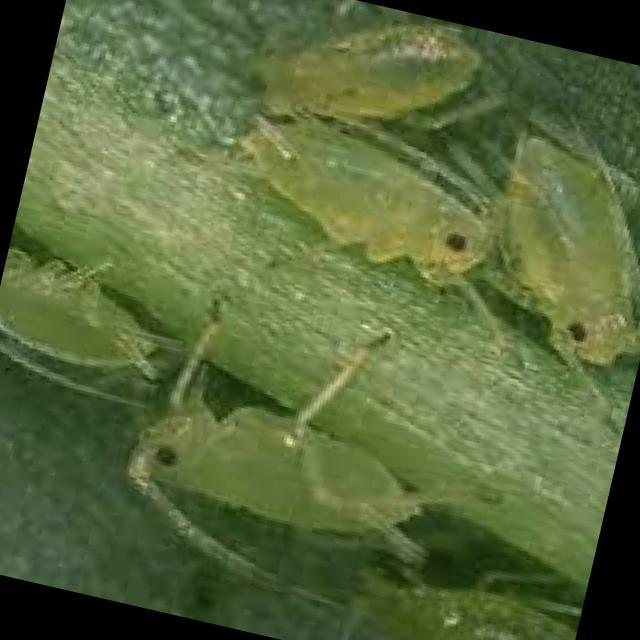aphid: (86, 312, 488, 619), (175, 85, 528, 315), (453, 68, 640, 420)
